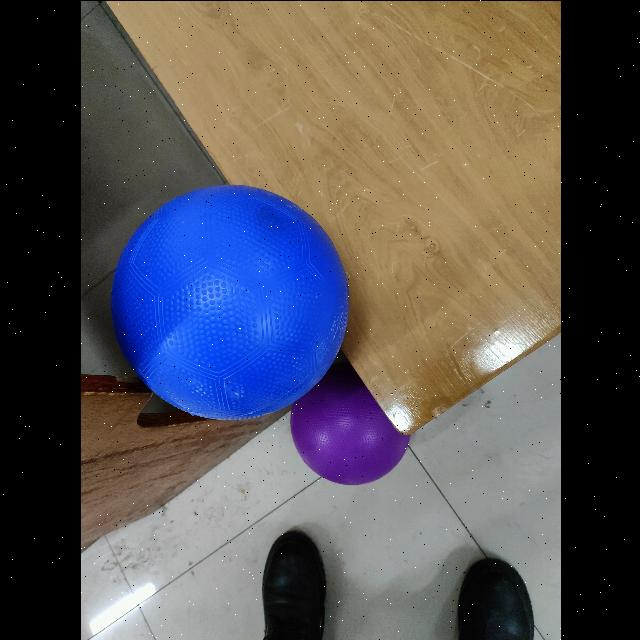B: (110, 180, 350, 420)
P: (291, 360, 411, 484)
